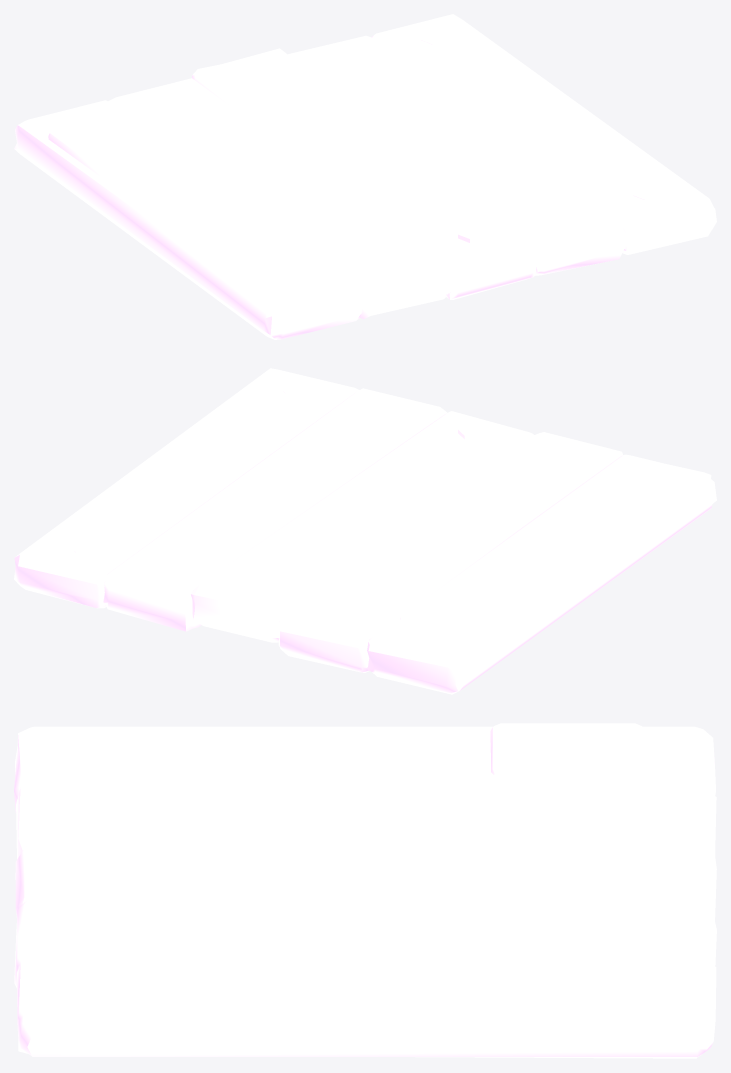
The model's file is floorboard.gltf.
3 renders of one model, top to bottom at view 1: azimuth 30°, elevation 25°; view 2: azimuth 150°, elevation 25°; view 3: azimuth 270°, elevation 25°, orthographic. The views are drawn at different scales.
Parts seen in each view (by area): view 1: HAUNT_static, HAUNT_floorboard; view 2: HAUNT_static, HAUNT_floorboard; view 3: HAUNT_static, HAUNT_floorboard.
Part boxes in pixels (<box>): HAUNT_static: <box>14,14,716,339</box>; HAUNT_floorboard: <box>192,48,539,299</box>; HAUNT_static: <box>14,368,716,694</box>; HAUNT_floorboard: <box>190,411,533,642</box>; HAUNT_static: <box>14,723,716,1058</box>; HAUNT_floorboard: <box>15,830,716,920</box>.
Size of the model in its own units: 1.03 by 0.1117 by 1.04.
